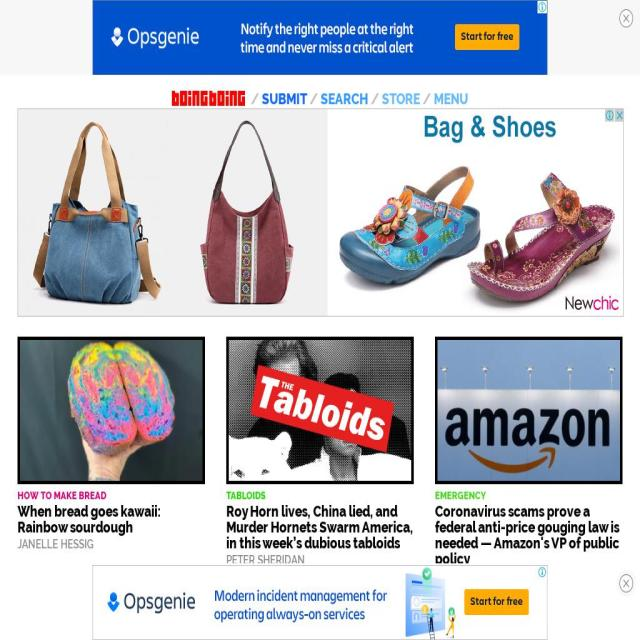heading: (226, 337, 414, 501), (434, 337, 622, 501), (434, 501, 620, 567), (226, 501, 413, 552), (18, 501, 160, 536), (18, 630, 416, 640), (18, 490, 206, 501), (226, 552, 305, 568), (18, 536, 94, 552), (434, 568, 494, 584)
iframe: (18, 108, 622, 315), (92, 0, 548, 75), (92, 565, 548, 640), (435, 606, 622, 640)
image: (172, 91, 245, 106), (620, 10, 632, 27), (620, 575, 632, 592)
link: (321, 89, 368, 108), (262, 89, 307, 108), (382, 89, 420, 108), (434, 89, 468, 108)
text: (248, 89, 262, 108), (307, 89, 321, 108), (368, 89, 382, 108), (420, 89, 434, 108)
